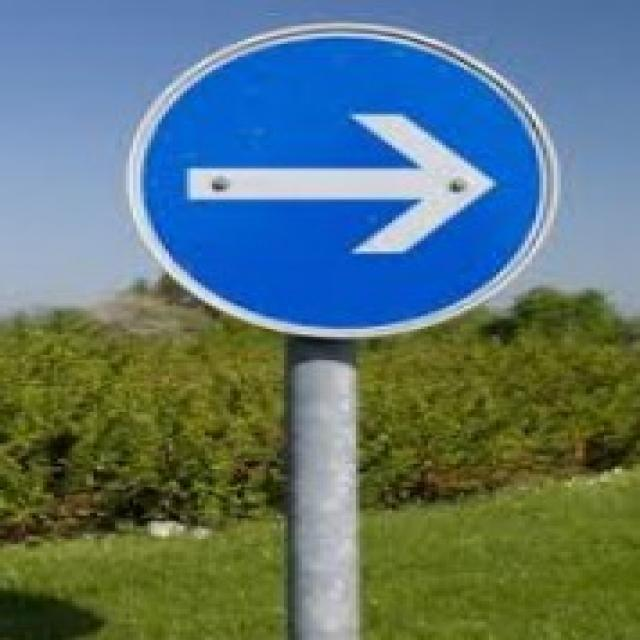Turn Right: (120, 26, 540, 350)
